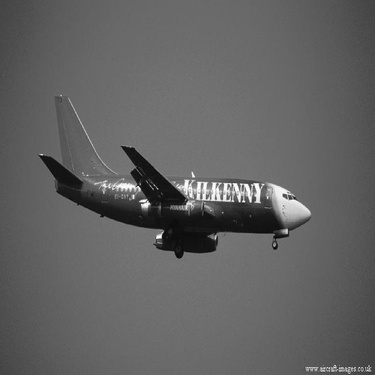airplane: (37, 90, 315, 263)
